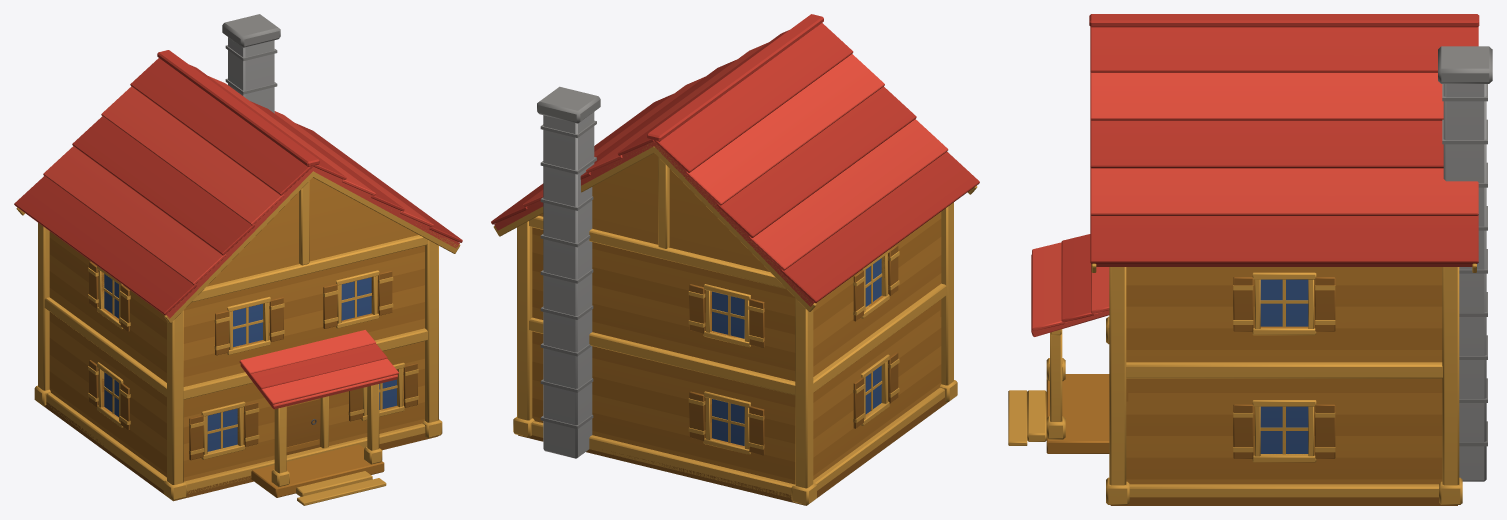
The model's file is house.glb.
3 renders of one model, left to right at view 1: azimuth 30°, elevation 25°; view 2: azimuth 150°, elevation 25°; view 3: azimuth 270°, elevation 25°, orthographic. The views are drawn at different scales.
Parts seen in each view (by area): view 1: house_roof, house_shell, house_trim, house_windows, house_porch, house_chimney, house_door; view 2: house_shell, house_roof, house_trim, house_chimney, house_windows; view 3: house_roof, house_shell, house_trim, house_porch, house_chimney, house_windows.
Part boxes in pixels (left/top/right/bottom): house_roof: left=14, top=50, right=462, bottom=323; house_shell: left=44, top=177, right=438, bottom=501; house_trim: left=34, top=181, right=442, bottom=500; house_windows: left=88, top=261, right=418, bottom=460; house_porch: left=239, top=330, right=398, bottom=505; house_chimney: left=222, top=14, right=280, bottom=113; house_door: left=286, top=398, right=320, bottom=455; house_shell: left=518, top=153, right=947, bottom=505; house_roof: left=491, top=14, right=979, bottom=311; house_trim: left=513, top=157, right=957, bottom=505; house_chimney: left=537, top=86, right=600, bottom=458; house_windows: left=688, top=244, right=899, bottom=455; house_roof: left=1089, top=14, right=1479, bottom=272; house_shell: left=1110, top=267, right=1457, bottom=505; house_trim: left=1106, top=267, right=1462, bottom=504; house_porch: left=1008, top=234, right=1109, bottom=453; house_chimney: left=1438, top=46, right=1492, bottom=481; house_windows: left=1233, top=272, right=1335, bottom=462.
Size of the model in its own units: 9.37 by 9.68 by 10.18.
